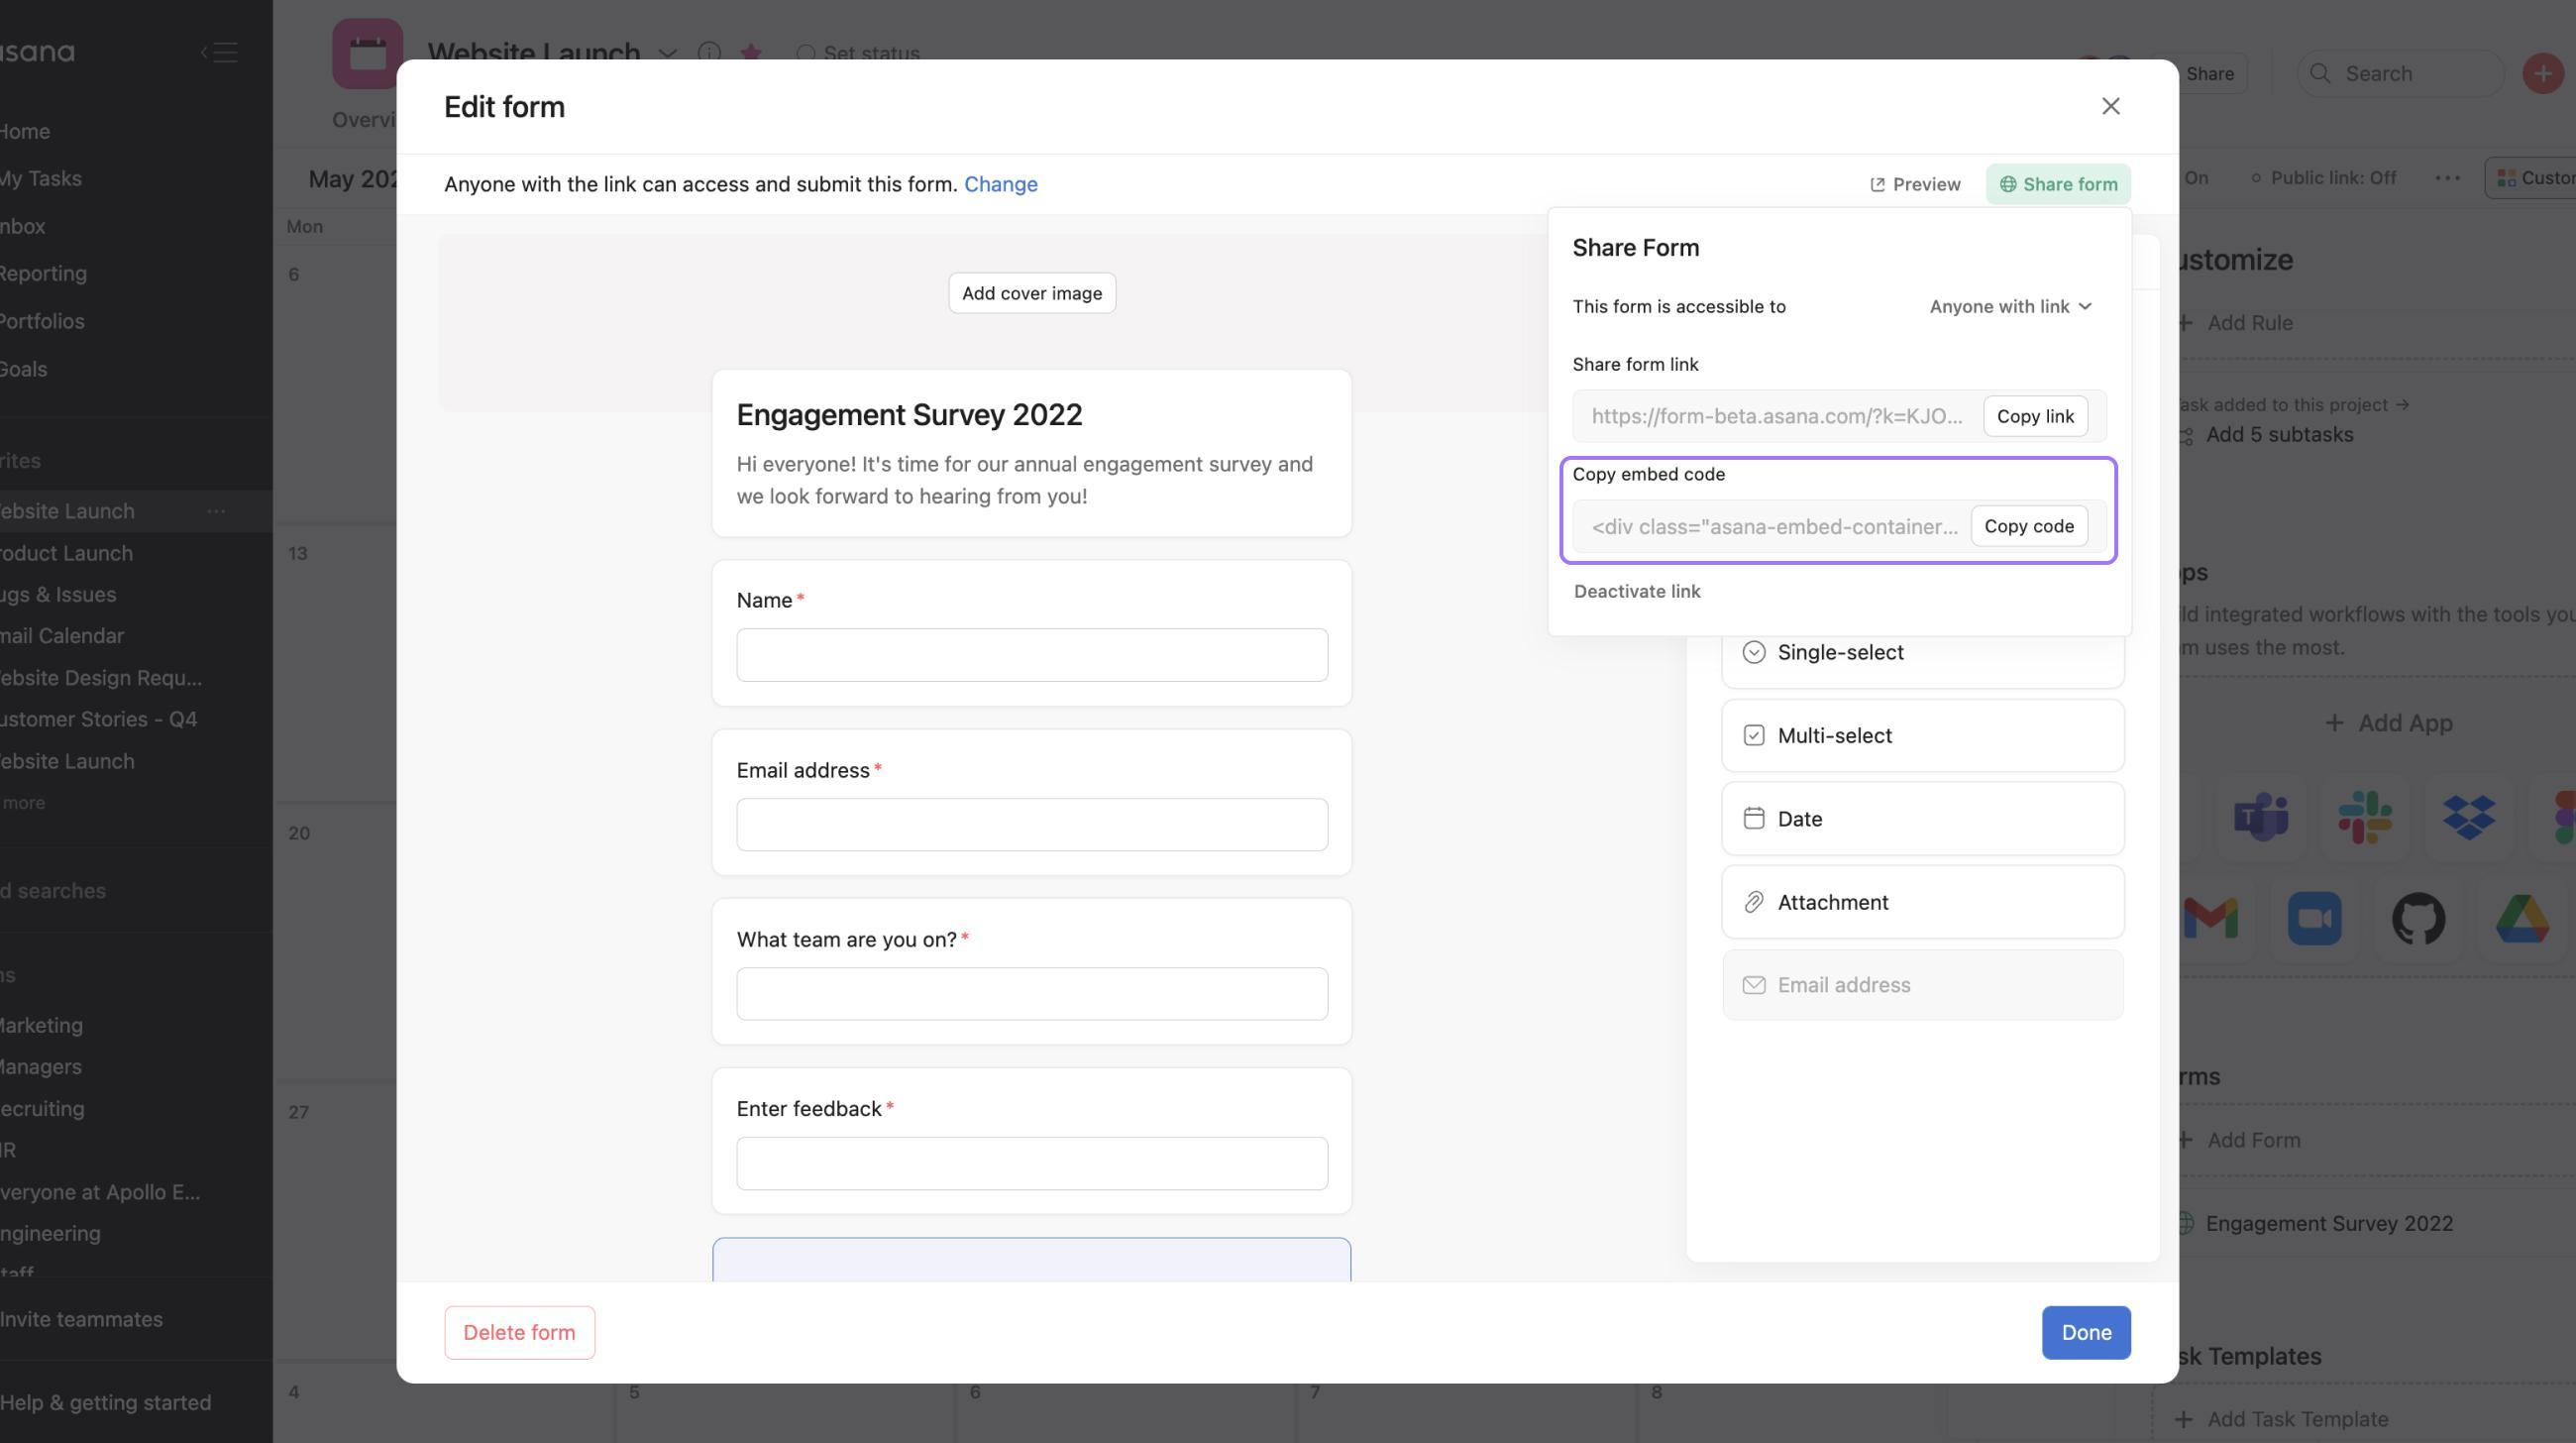button: (2181, 1105, 2574, 1181), (1725, 784, 2128, 857), (1727, 698, 2125, 770), (1725, 869, 2125, 938), (1723, 632, 2123, 694), (1721, 954, 2121, 1015), (2151, 1388, 2576, 1443), (449, 1307, 600, 1358), (955, 273, 1115, 319), (2043, 1303, 2132, 1363), (1992, 168, 2127, 205), (1985, 395, 2091, 441), (2486, 154, 2576, 202), (1973, 512, 2089, 542), (2174, 51, 2249, 94)
icon: (196, 39, 246, 74), (2100, 90, 2127, 127), (2431, 168, 2465, 193)
input: (745, 1135, 1332, 1195), (734, 795, 1332, 853), (736, 625, 1332, 683), (734, 967, 1330, 1020), (1573, 499, 2107, 556), (1571, 391, 2107, 446), (2293, 51, 2507, 103)
label: (734, 395, 1092, 437), (725, 921, 980, 958), (1568, 459, 1739, 492), (732, 1096, 904, 1130), (433, 94, 591, 129), (732, 756, 897, 788), (1564, 347, 1704, 379), (1559, 234, 1709, 260), (736, 579, 814, 618), (1865, 170, 1962, 191)
